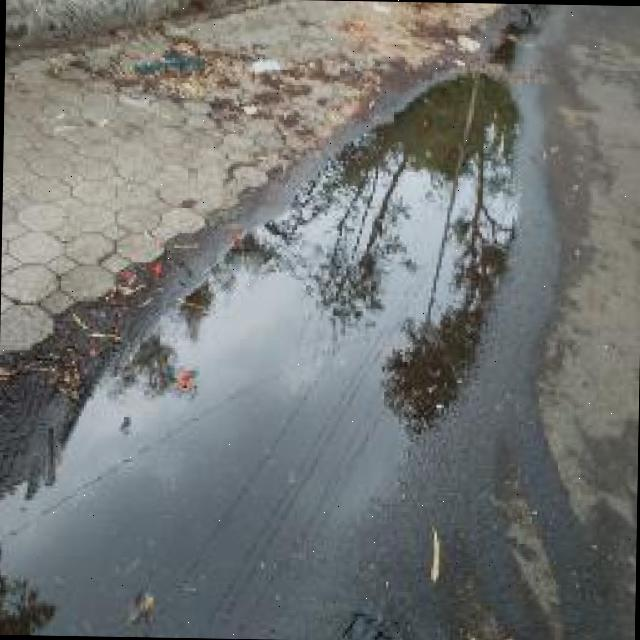stagnation: (0, 46, 577, 640)
